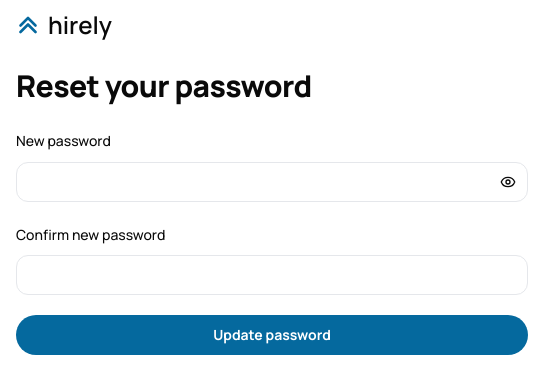
secure password reset › validates the recovery user and updates without current_password
This screenshot has width=545, height=372.
In the password field labelled "New password": (272,182) [16, 162, 528, 202], type "safe-example-password"
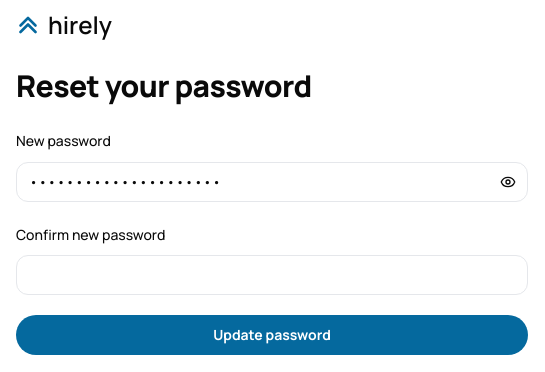
In the password field labelled "Confirm new password": (272,275) [16, 255, 528, 295], type "safe-example-password"
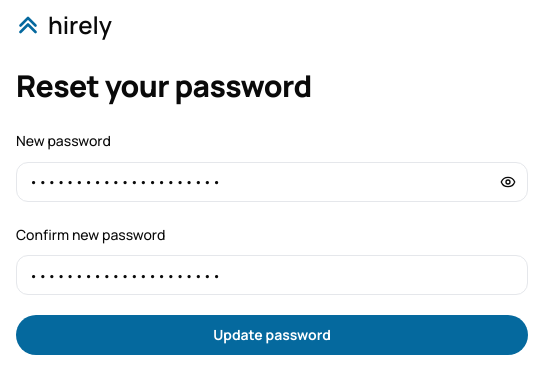
Click the button "Update password": (272,335) [16, 315, 528, 355]
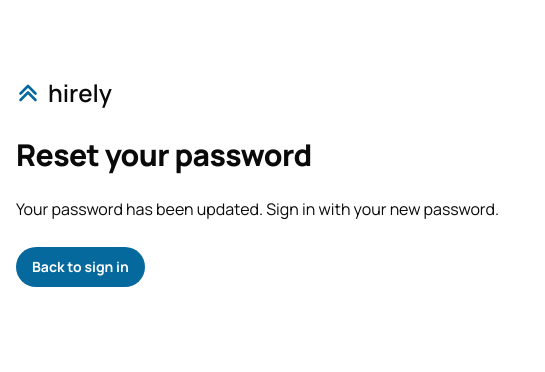
Check: the message shows "Your password has been updated.", box [16, 198, 499, 220]
